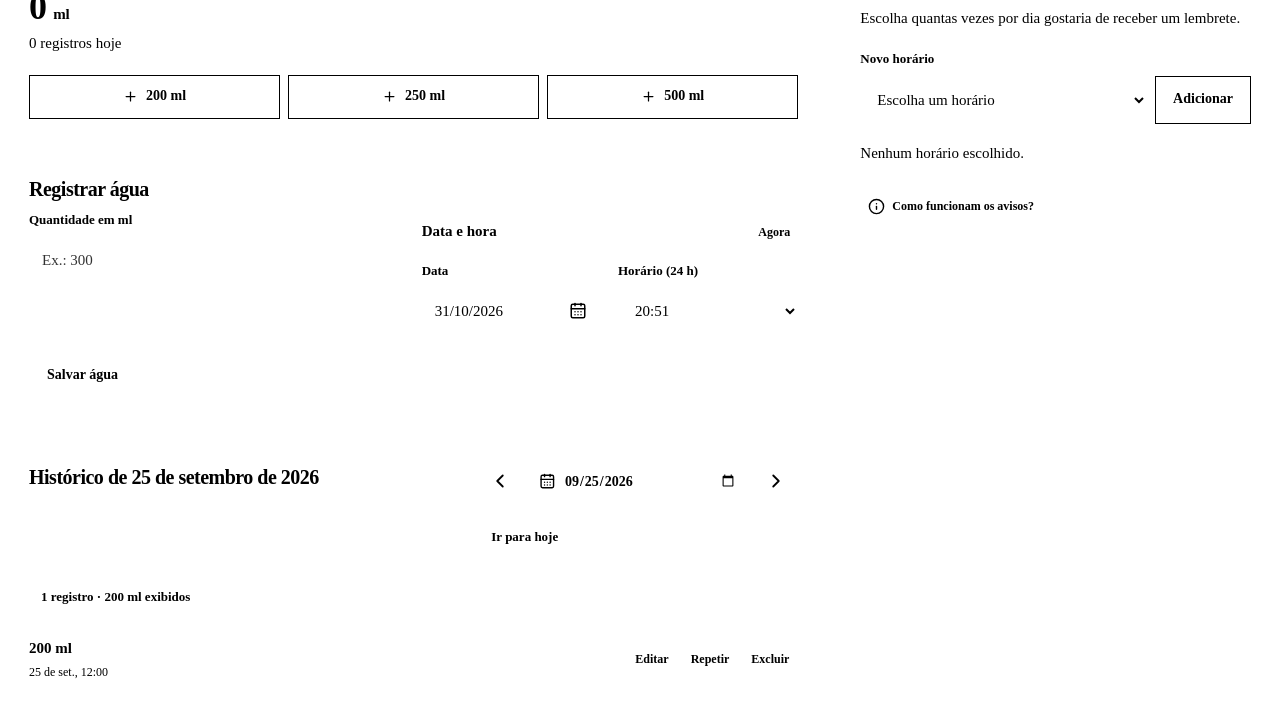
edição de uma entrada de água › salva volume alterado sem criar outro registro
The image size is (1280, 720).
(page scrolled)
Step 1. Click the button with aria-label "Editar água de 200 ml" → (652, 659), box [626, 637, 678, 681]
(page scrolled)
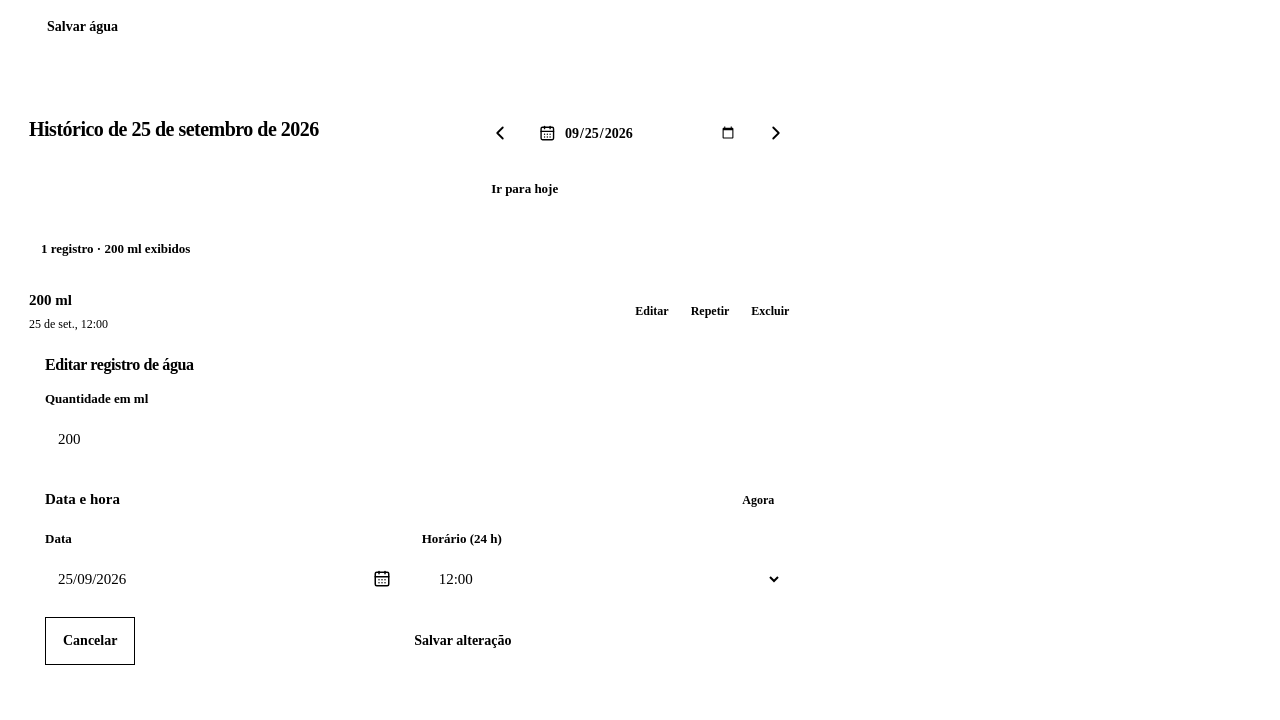
Step 2. Replace the text in the field labelled "Quantidade em ml" with "350" → (427, 440), box [45, 416, 808, 464]
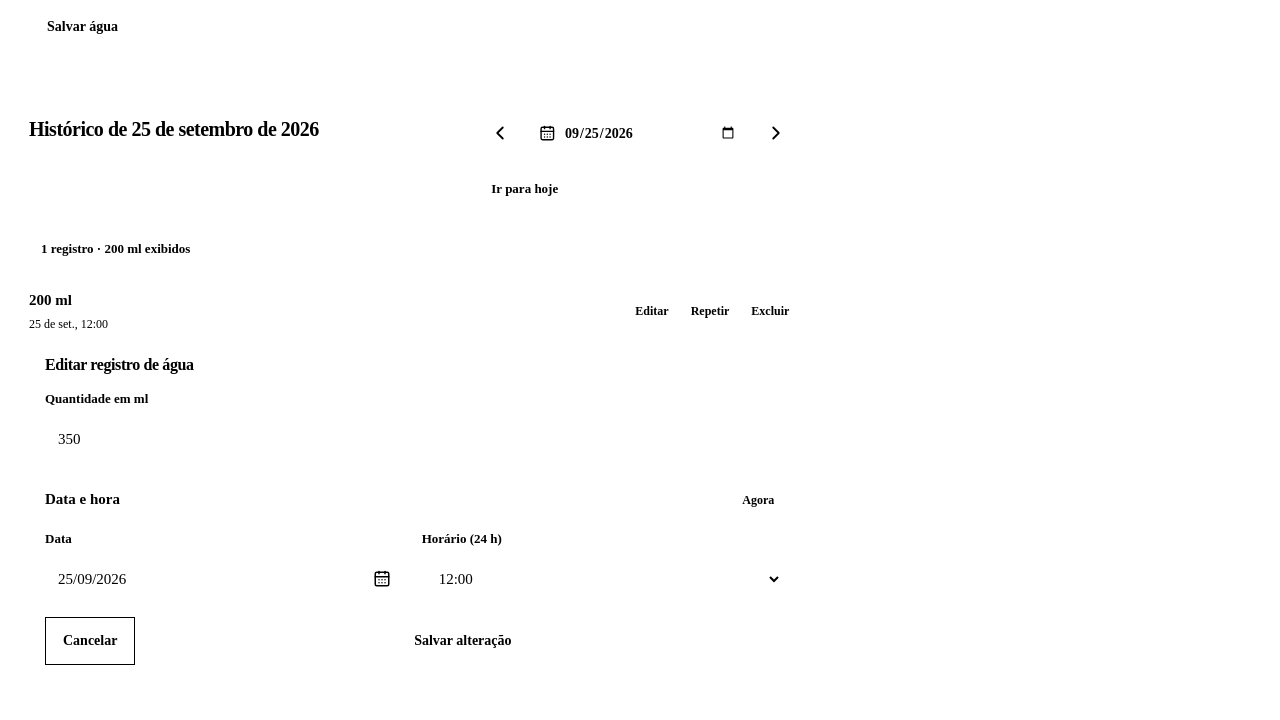
Step 3. Click the button "Salvar alteração" → (463, 641), box [143, 617, 782, 665]
(page scrolled)
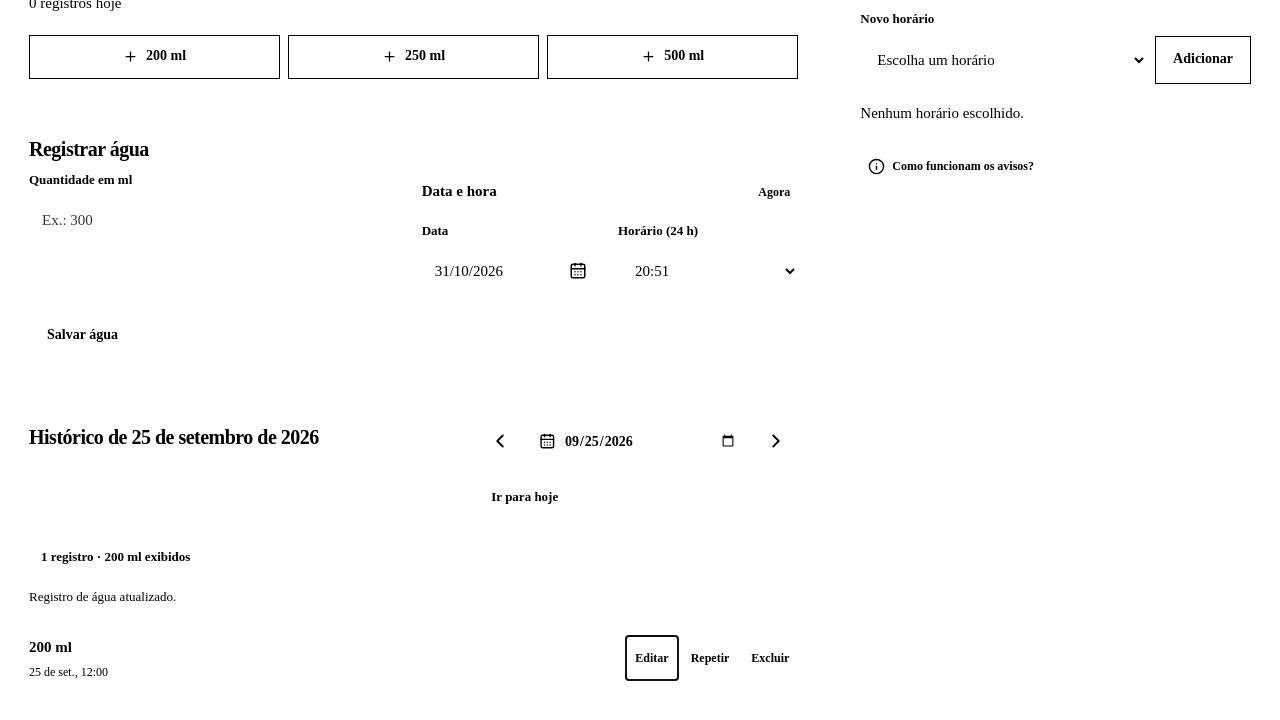
Expected: the text "Registro de água atualizado." is shown, [29, 589, 176, 604]
